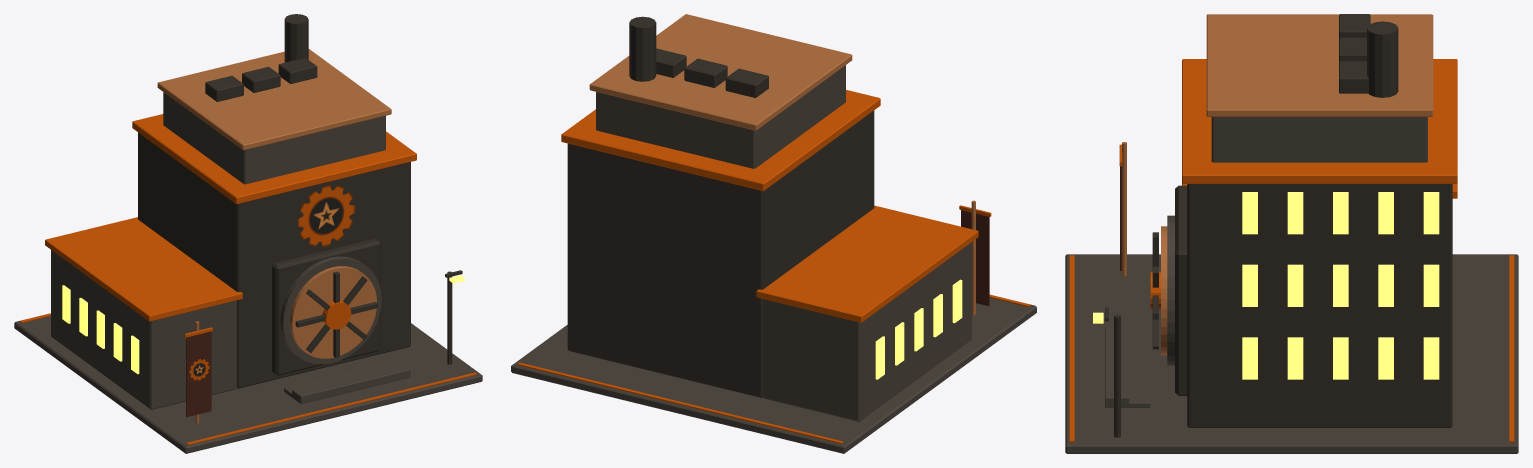
File: Thorvald_LedgerOffice.fbx
3 views of the same model, side by side, from view 1: azimuth 30°, elevation 25°; view 2: azimuth 150°, elevation 25°; view 3: azimuth 270°, elevation 25° (orthographic). The views are drawn at different scales.
Parts seen in each view (by area): view 1: Thorvald_LedgerOffice; view 2: Thorvald_LedgerOffice; view 3: Thorvald_LedgerOffice.
Part boxes in pixels (x1,y1,x2,y2): Thorvald_LedgerOffice: [14, 14, 482, 453]; Thorvald_LedgerOffice: [511, 14, 1036, 453]; Thorvald_LedgerOffice: [1065, 14, 1518, 453].
Size of the model in its own units: 13 by 12.14 by 13.
8 materials, 1 textured.
